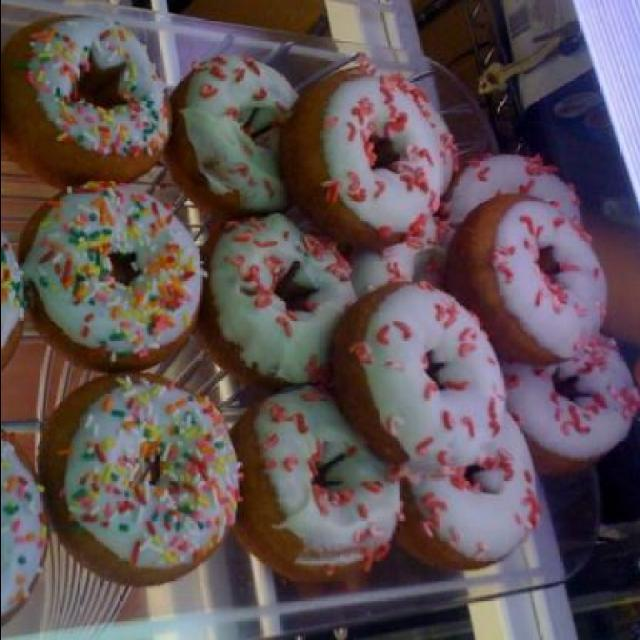Donuts: (2, 24, 630, 614)
